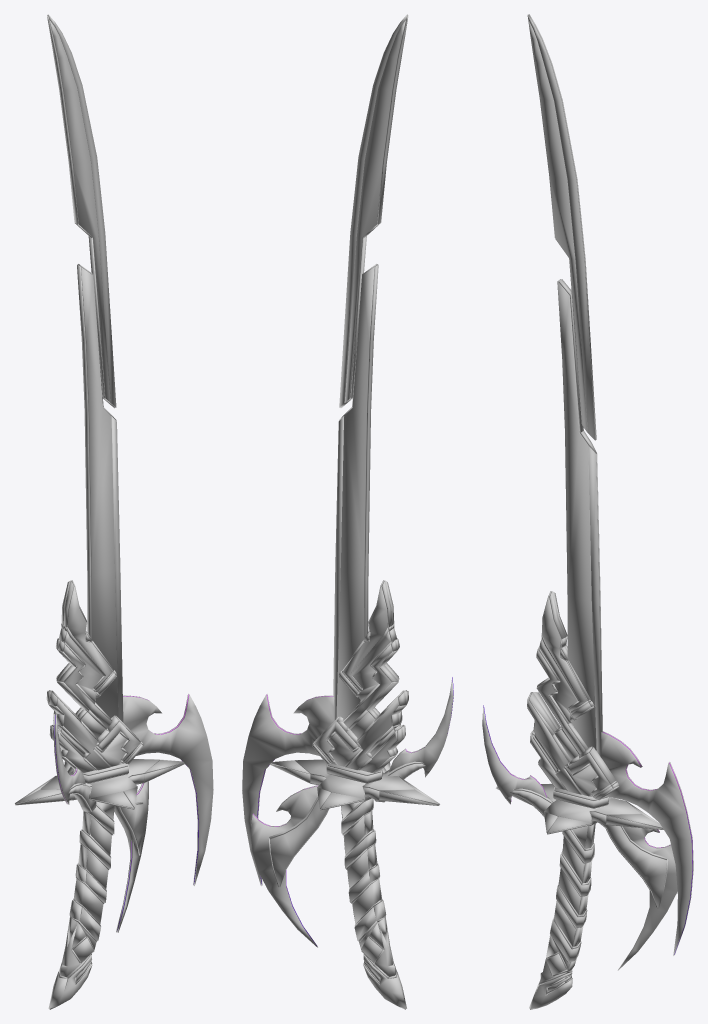
The model's file is raiden.obj.
3 renders of one model, left to right at view 1: azimuth 30°, elevation 25°; view 2: azimuth 150°, elevation 25°; view 3: azimuth 330°, elevation 25°, orthographic.
Parts seen in each view (by area): view 1: Narukami_mesh; view 2: Narukami_mesh; view 3: Narukami_mesh.
Boxes of the visible parts, <box> form: Narukami_mesh: <box>15,14,213,1009</box>; Narukami_mesh: <box>242,14,453,1009</box>; Narukami_mesh: <box>482,14,693,1009</box>.
Bounding box in the file's own units: 2.94 × 14.18 × 1.78.
Materials: 2 (1 with a texture image).
